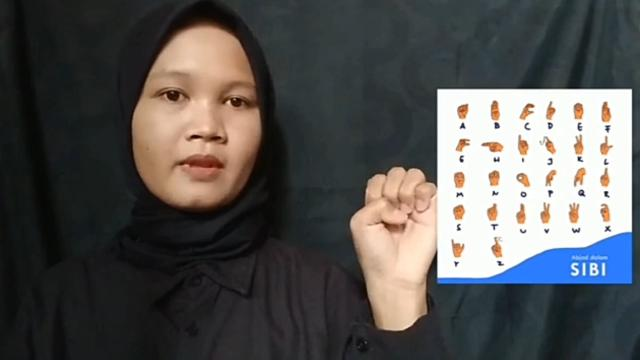E: (350, 166, 434, 284)
